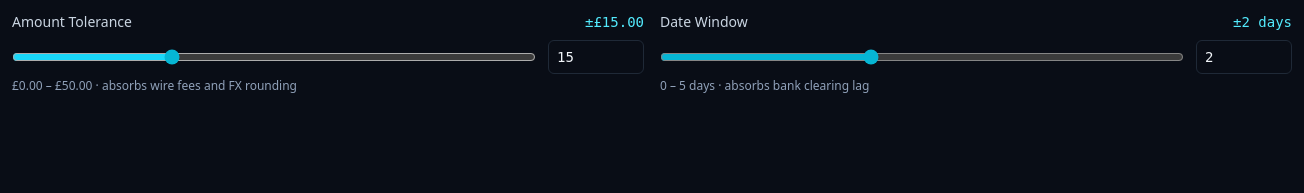
Test: ToleranceControls › treats editing back to the applied value as no draft
The width and height of the screenshot is (1304, 193).
Replace the text in the number field named "Amount tolerance, exact value" with "20": (596, 57) [548, 40, 644, 74]
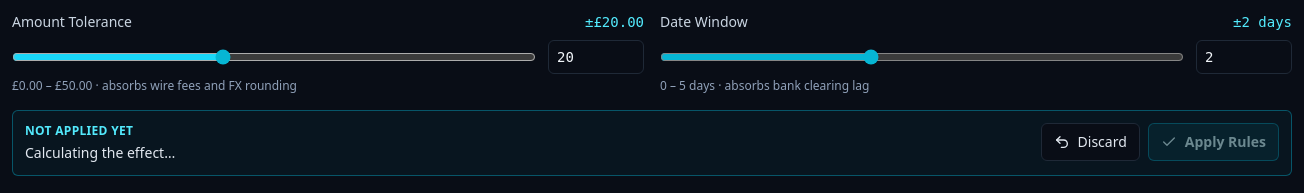
Replace the text in the number field named "Amount tolerance, exact value" with "15": (596, 57) [548, 40, 644, 74]
Wait 250 ms
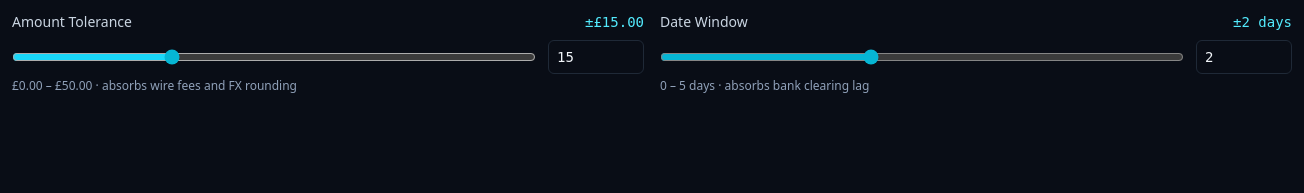
Expected: the text "Not applied yet" is gone
